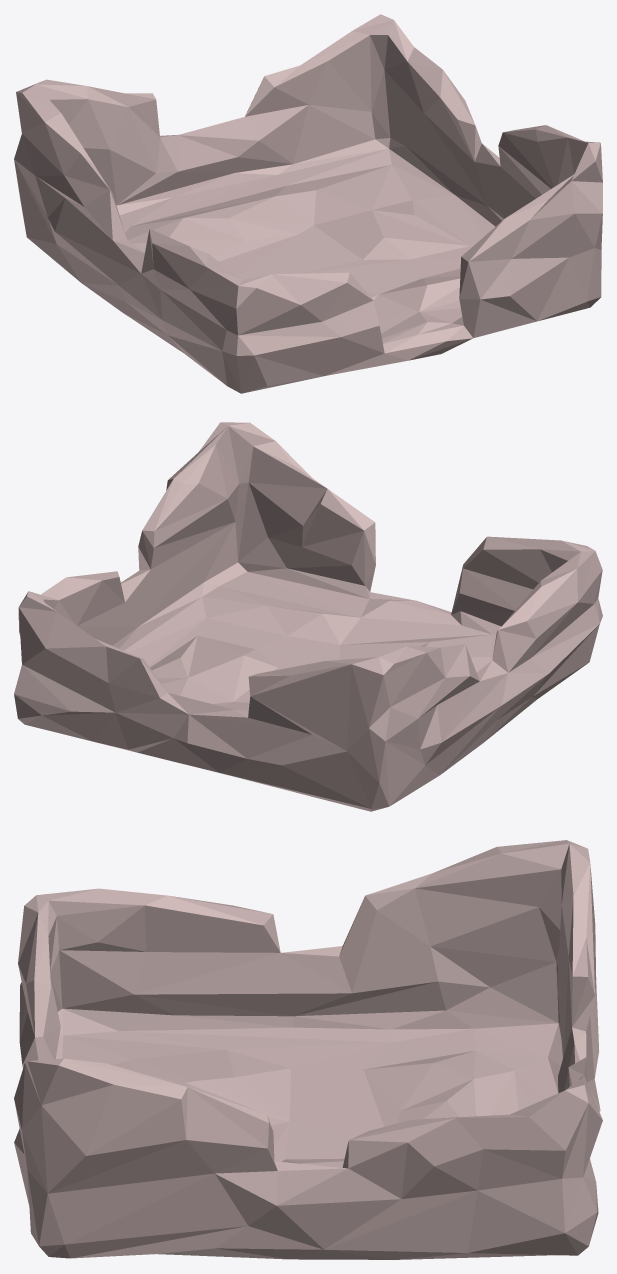
The model's file is floor3.fbx.
The picture shows the model from 3 angles, top to bottom: view 1: azimuth 30°, elevation 25°; view 2: azimuth 150°, elevation 25°; view 3: azimuth 270°, elevation 25°; orthographic projection. The views are drawn at different scales.
Visible parts, largest first — view 1: player3; view 2: player3; view 3: player3.
Boxes of the visible parts, x1,y1,x2,y2 form: player3: [14, 14, 602, 393]; player3: [14, 422, 602, 811]; player3: [14, 840, 602, 1259].
Size of the model in its own units: 4.71 by 1.97 by 4.83.
